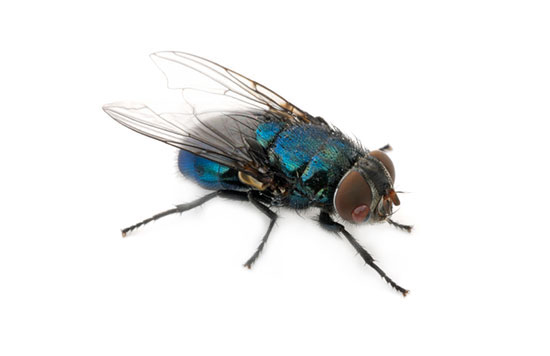house fly: (94, 36, 429, 302)
